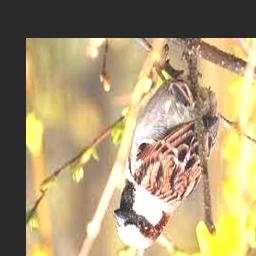Sparrow: (112, 63, 219, 249)
